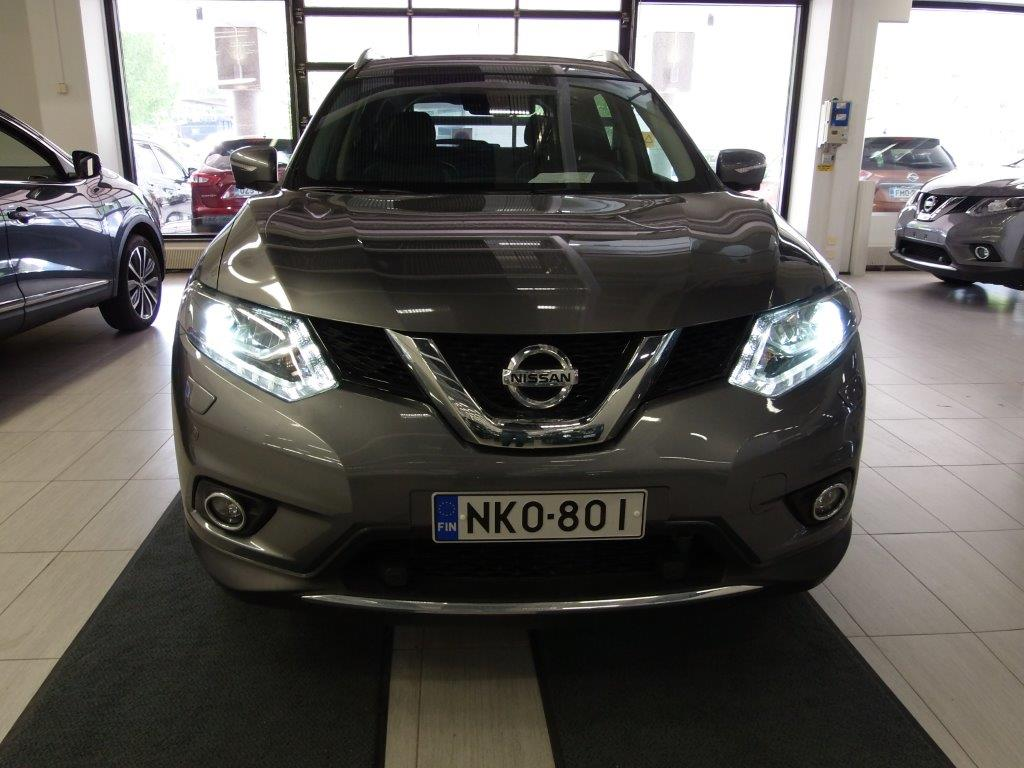license: (430, 492, 647, 544)
